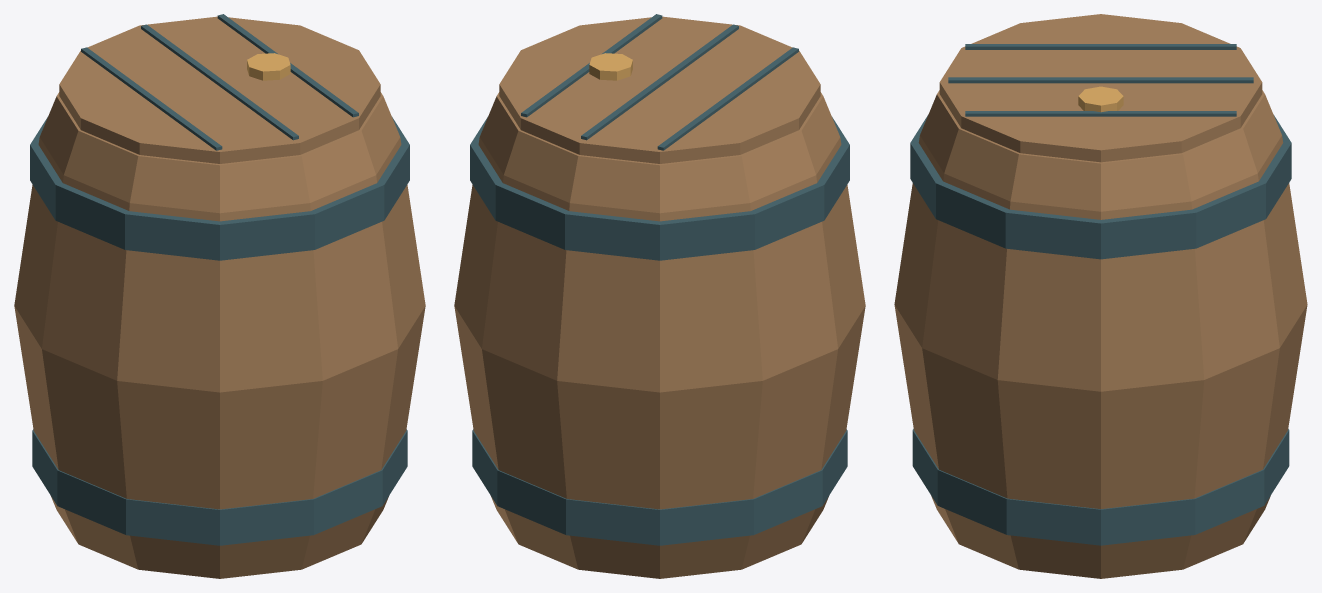
Rendered from AC_Cargo_Barrel.glb.
3 views of the same model, side by side, from view 1: azimuth 30°, elevation 25°; view 2: azimuth 150°, elevation 25°; view 3: azimuth 270°, elevation 25° (orthographic).
Visible parts, largest first — view 1: AC_Cargo_Barrel; view 2: AC_Cargo_Barrel; view 3: AC_Cargo_Barrel.
Part boxes in pixels (left/top/right/bottom): AC_Cargo_Barrel: left=14, top=14, right=425, bottom=578; AC_Cargo_Barrel: left=454, top=14, right=865, bottom=578; AC_Cargo_Barrel: left=894, top=14, right=1307, bottom=578.
Bounding box in the file's own units: 0.73 × 0.853 × 0.73.
